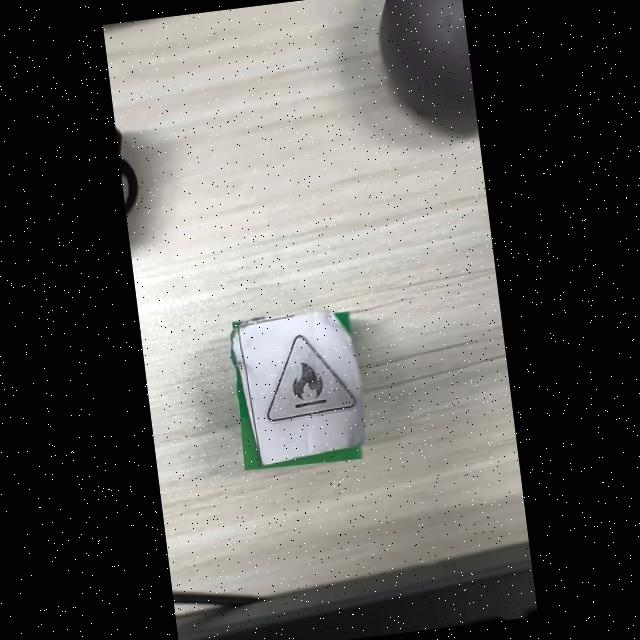Fire: (266, 334, 357, 422)
